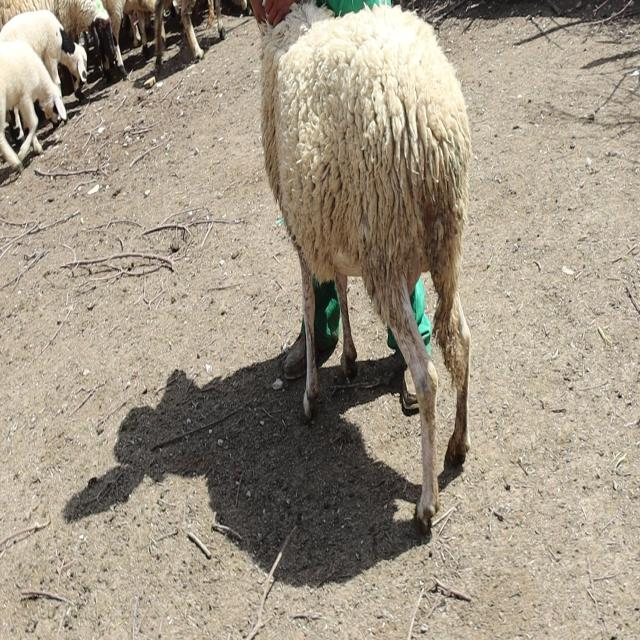Score_5: (261, 0, 472, 531)
